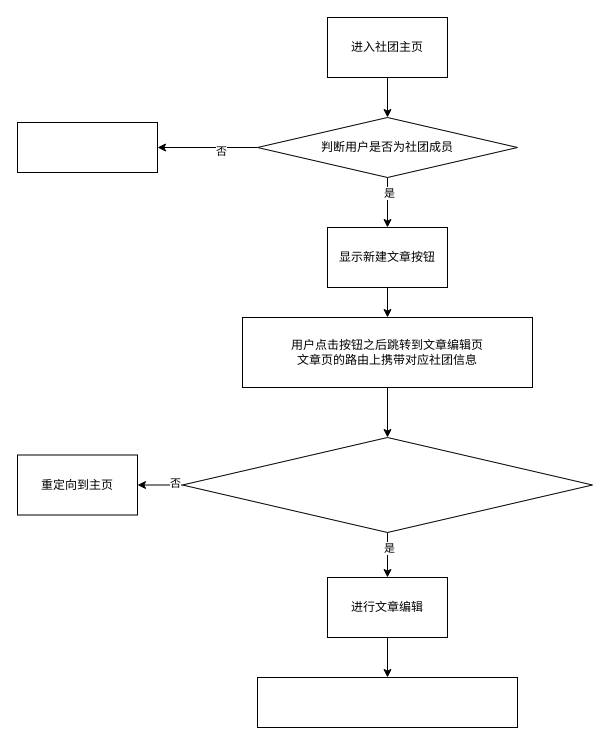
This 610x745 diagram has some shape labels left out. The shapes that lost their labels are listed below. From the top down, each one's box as (x1, y1, x2, y2) in pixels, then its label:
(16, 122, 158, 172): 不显示新建文章的按钮
(182, 436, 592, 532): 判断社团是否存在并且用户有权限进行新建文章的操作
(256, 676, 518, 728): 编辑完成后申请文章的发布 等待结果
